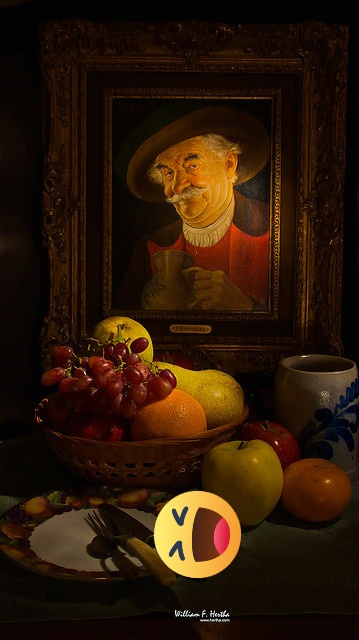haha: (154, 491, 241, 578)
